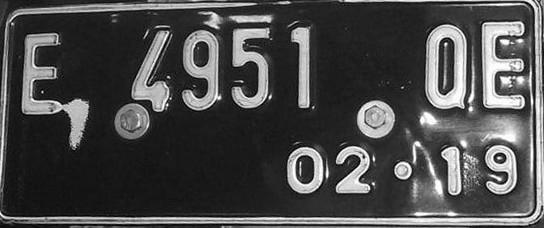1: (276, 16, 330, 115)
4: (122, 24, 178, 120)
5: (222, 20, 278, 112)
9: (174, 27, 224, 115)
E: (480, 19, 528, 115), (20, 29, 68, 123)
Q: (418, 18, 476, 116)
